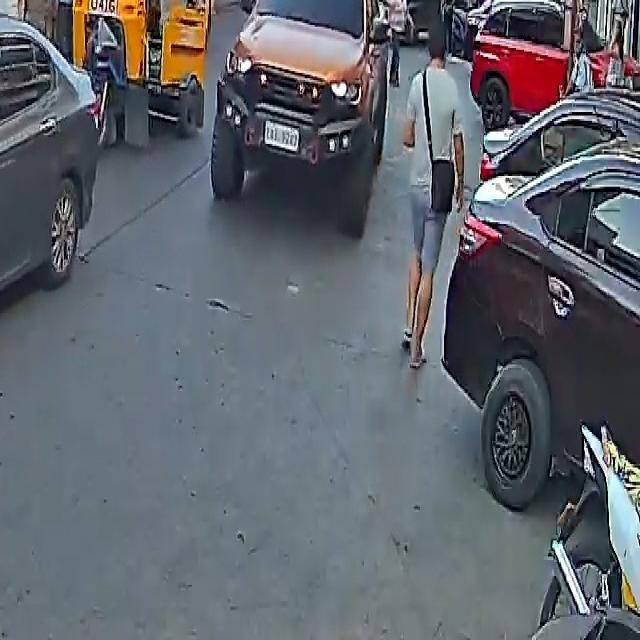car: (440, 56, 640, 531), (0, 2, 113, 418), (205, 0, 397, 222), (465, 0, 611, 133), (385, 0, 469, 52)
